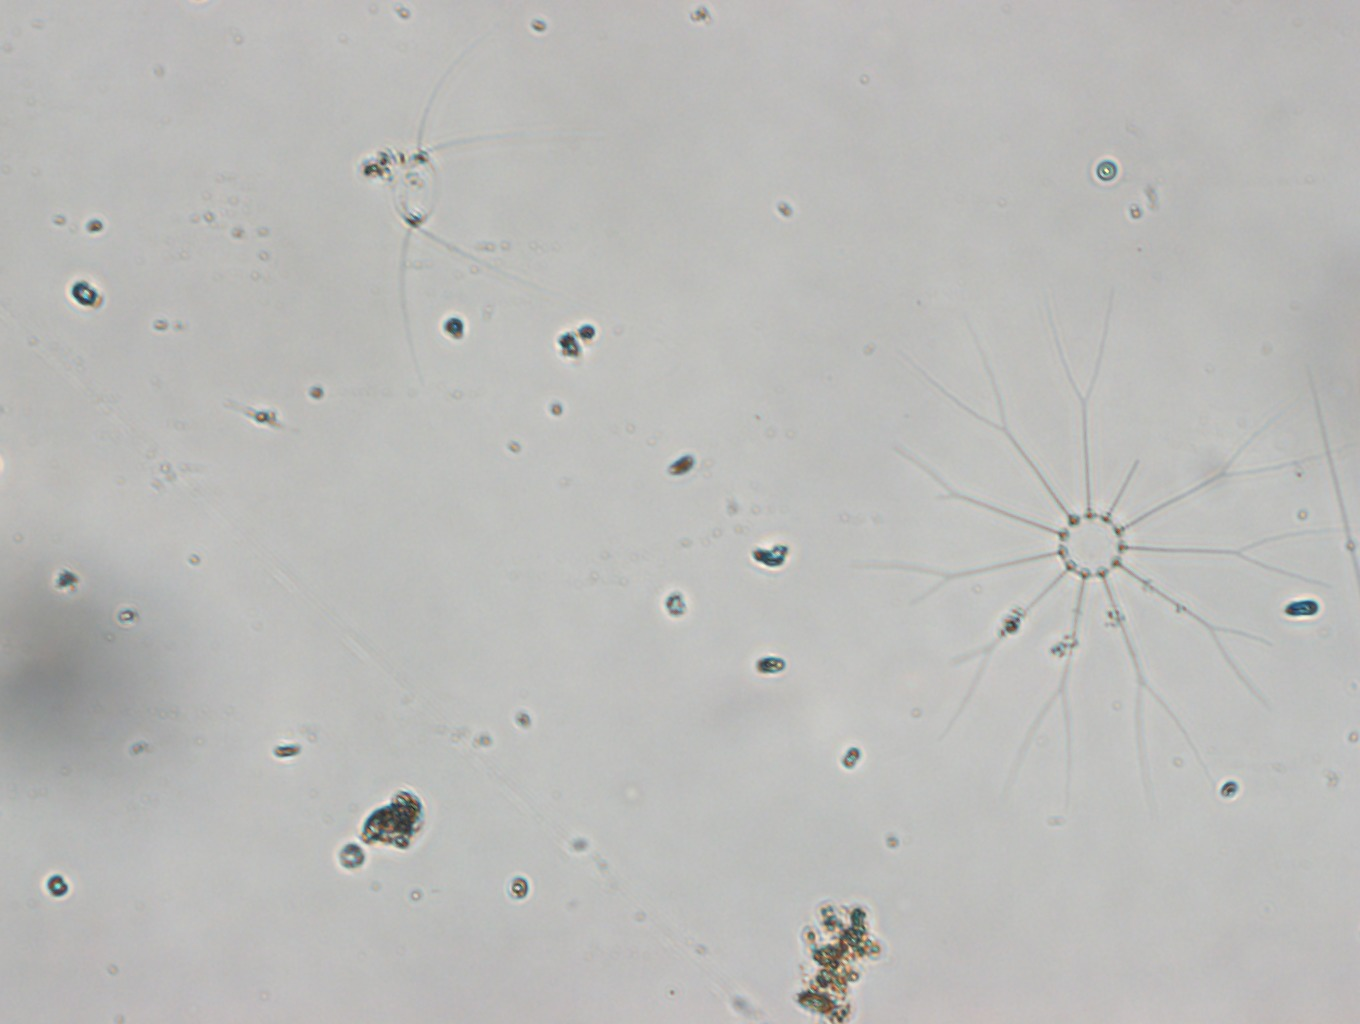bacteriastrum: (881, 294, 1327, 803)
